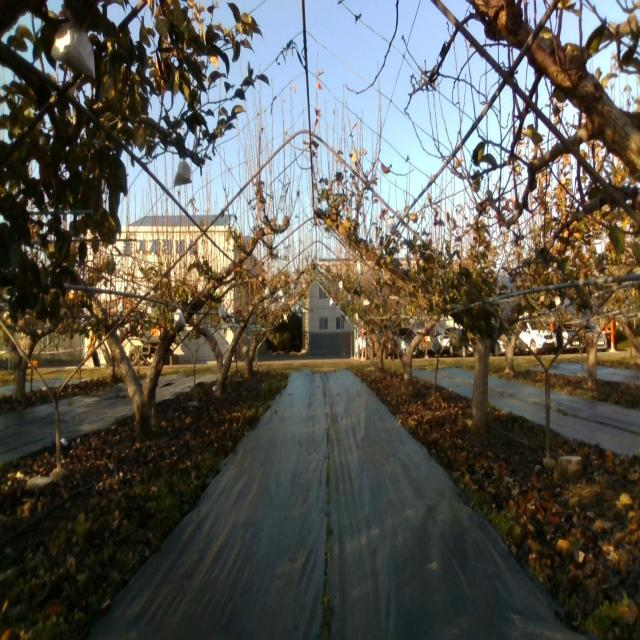pearbags: (51, 19, 97, 82), (173, 161, 193, 187), (173, 309, 185, 327)
